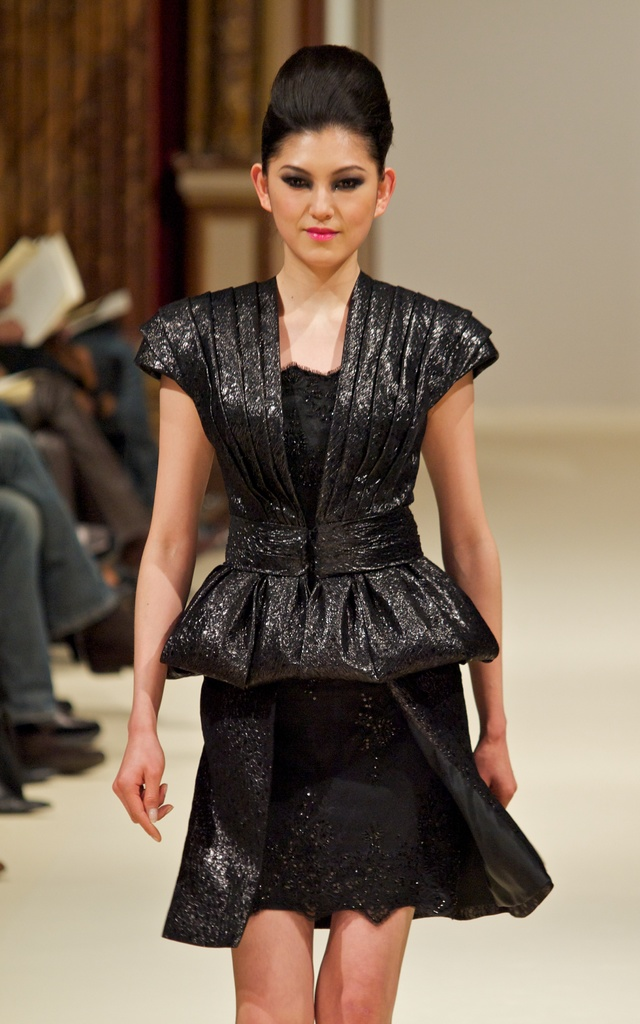Person: (0, 44, 554, 1023)
